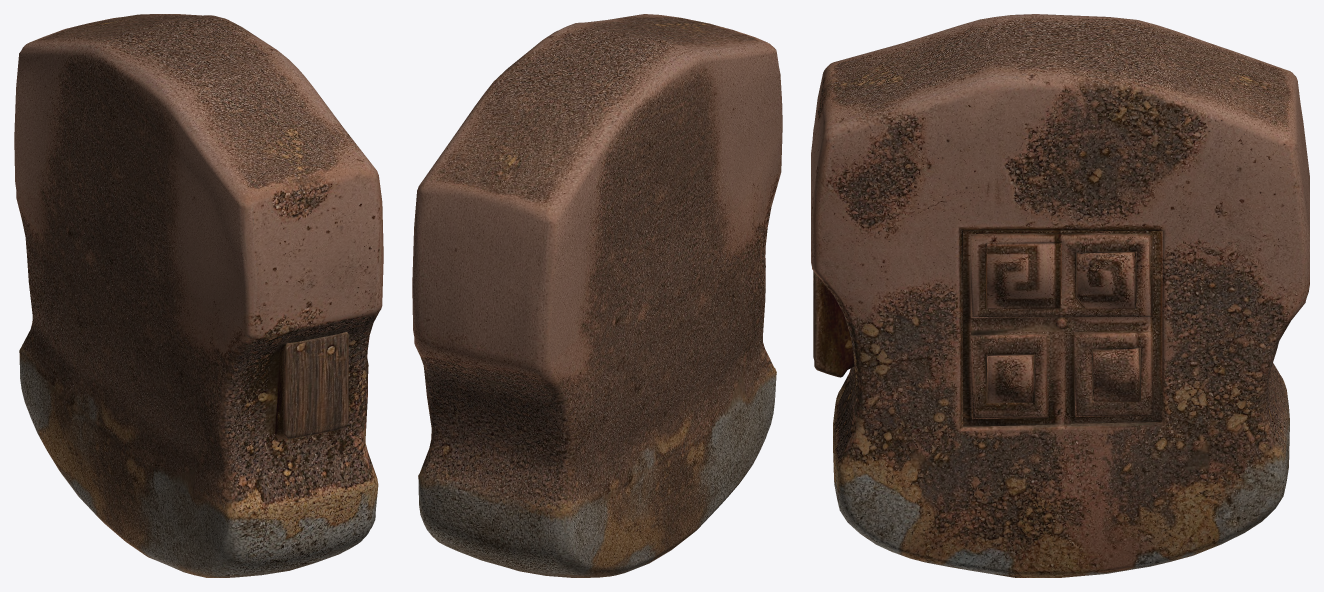
File: tripo_convert_4c0633ba-90fd-401f-bbfe-e83e7c009853.fbx
3 renders of one model, left to right at view 1: azimuth 30°, elevation 25°; view 2: azimuth 150°, elevation 25°; view 3: azimuth 270°, elevation 25°, orthographic. The views are drawn at different scales.
Parts seen in each view (by area): view 1: tripo_node_4c0633ba; view 2: tripo_node_4c0633ba; view 3: tripo_node_4c0633ba.
Part boxes in pixels (box(x1,y1,x2,y2)): tripo_node_4c0633ba: box(14, 14, 383, 577); tripo_node_4c0633ba: box(412, 14, 782, 577); tripo_node_4c0633ba: box(811, 14, 1309, 577).
Bounding box in the file's own units: 0.3457 × 0.998 × 0.8848.
1 material, 1 textured.
